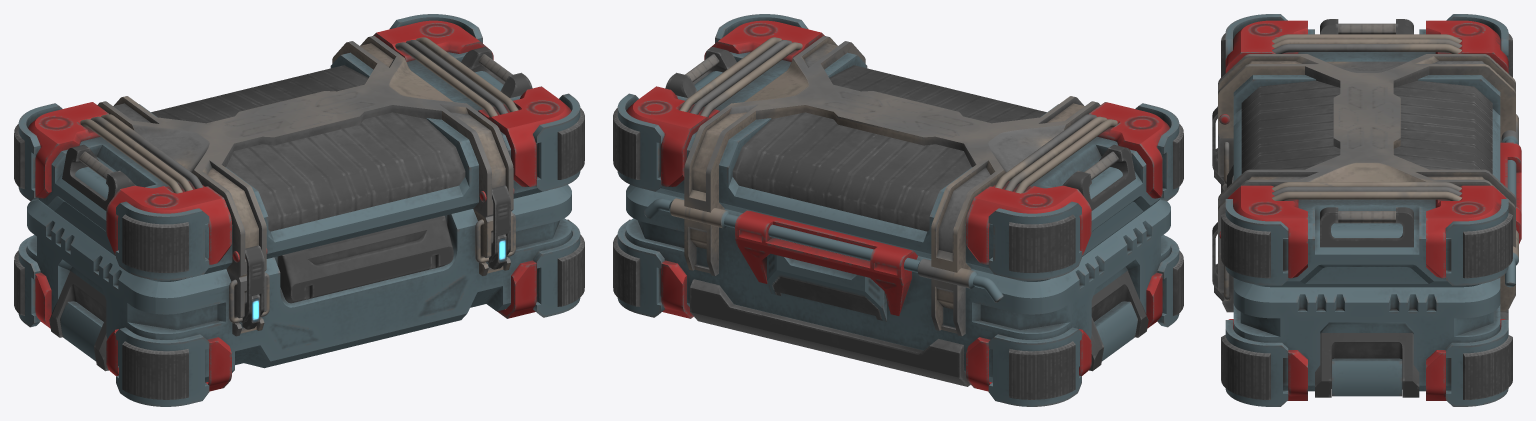
The model's file is containerfree.fbx.
3 views of the same model, side by side, from view 1: azimuth 30°, elevation 25°; view 2: azimuth 150°, elevation 25°; view 3: azimuth 270°, elevation 25° (orthographic). The views are drawn at different scales.
Parts seen in each view (by area): view 1: containerfree_grp; view 2: containerfree_grp; view 3: containerfree_grp.
Part boxes in pixels (<box>): containerfree_grp: <box>14,14,584,406</box>; containerfree_grp: <box>613,14,1183,406</box>; containerfree_grp: <box>1212,14,1521,406</box>.
Size of the model in its own units: 159 by 65.7 by 97.32.
1 material, 1 textured.
